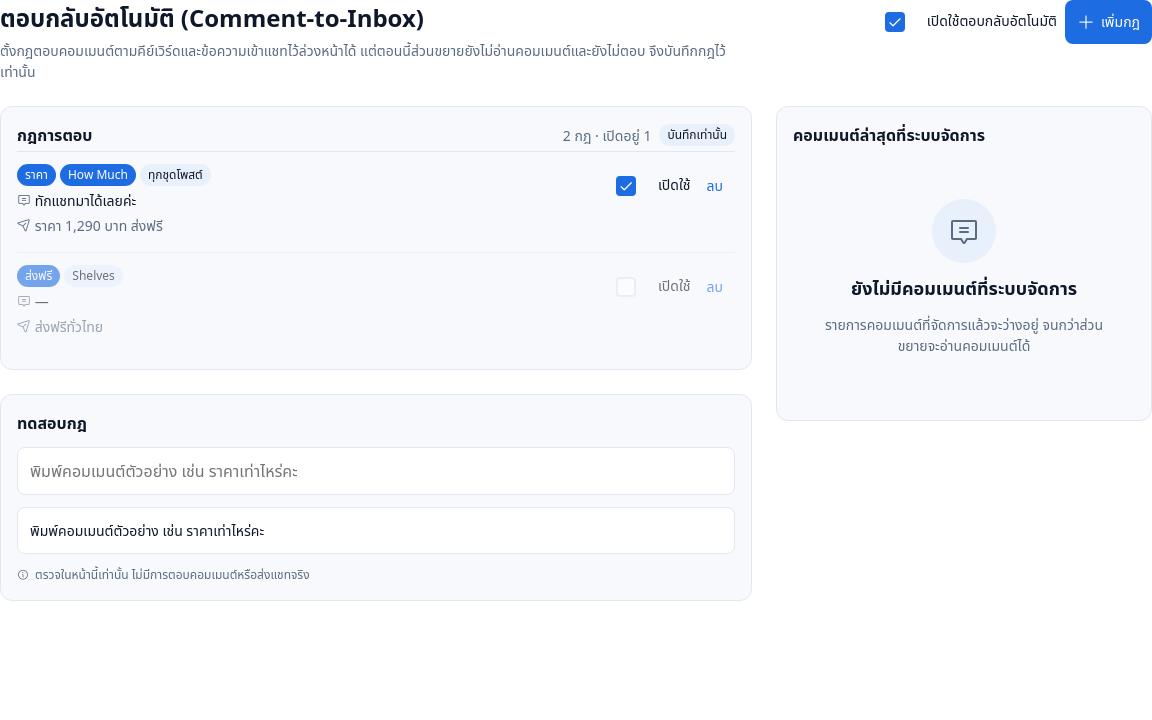
EngagePageComponent › the new rule dialog › adds the rule, sends the whole list and closes with a toast
Click the button "เพิ่มกฎ" at [1108, 22], box [1065,0,1151,44]
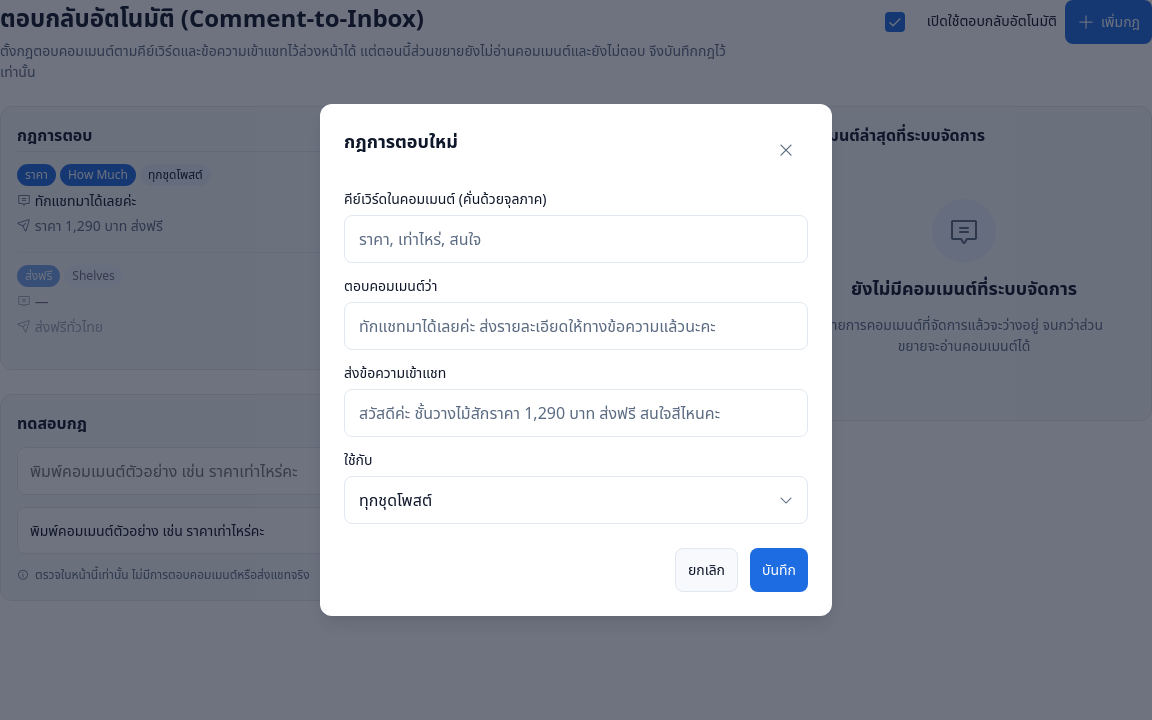
Type " สนใจ, ราคา " into the 1st field with class "su-input" at [576, 239], box [344,215,808,263]
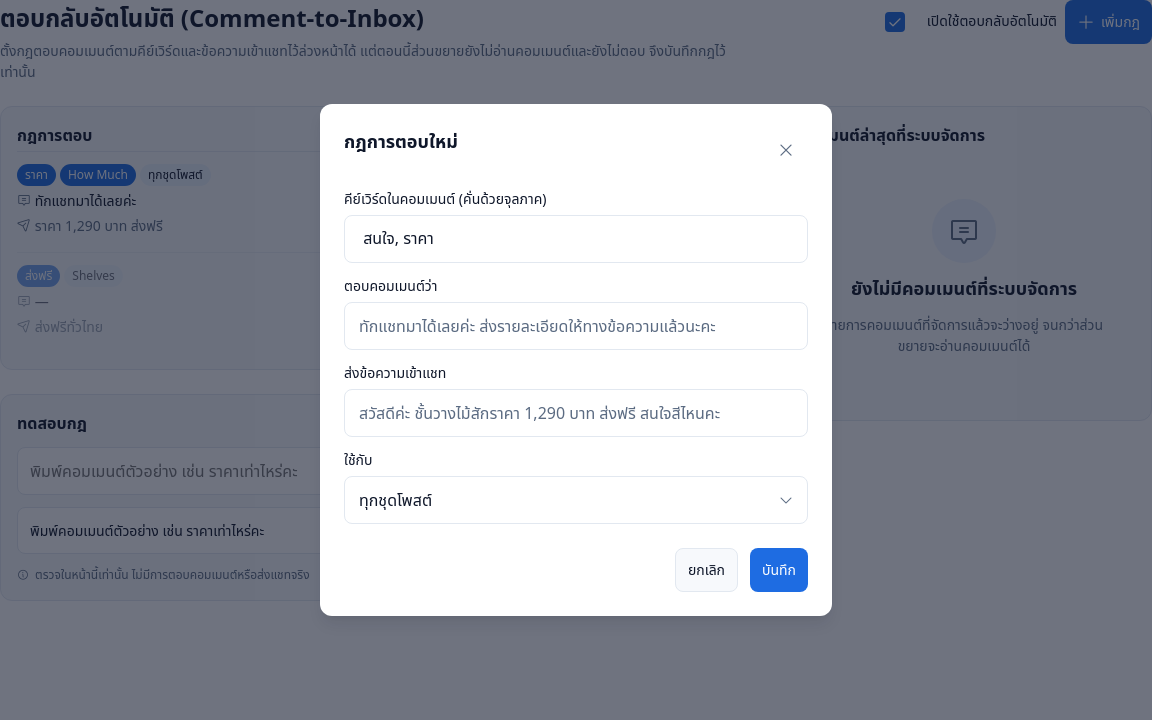
Type "ส่งรายละเอียดทางแชท" into the field with class "su-input" showing "ส่งข้อความเข้าแชท" at [576, 413], box [344,389,808,437]
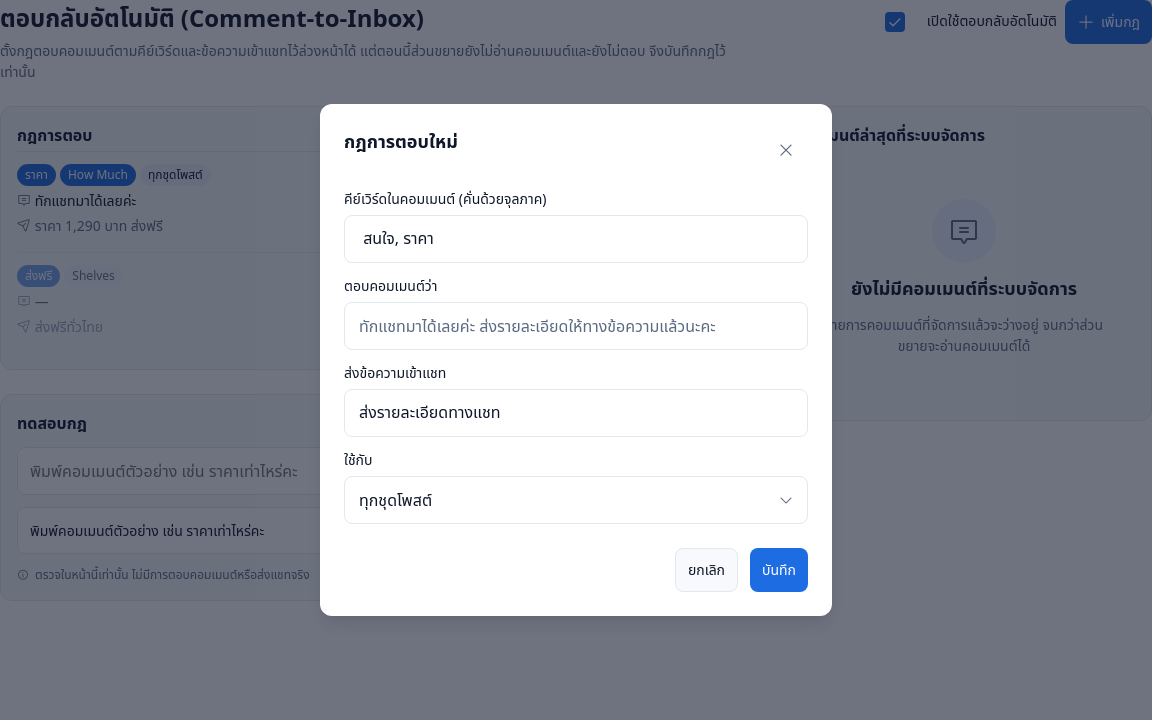
Select "Chairs" in the dropdown labelled "ใช้กับ" at [576, 500], box [344,476,808,524]
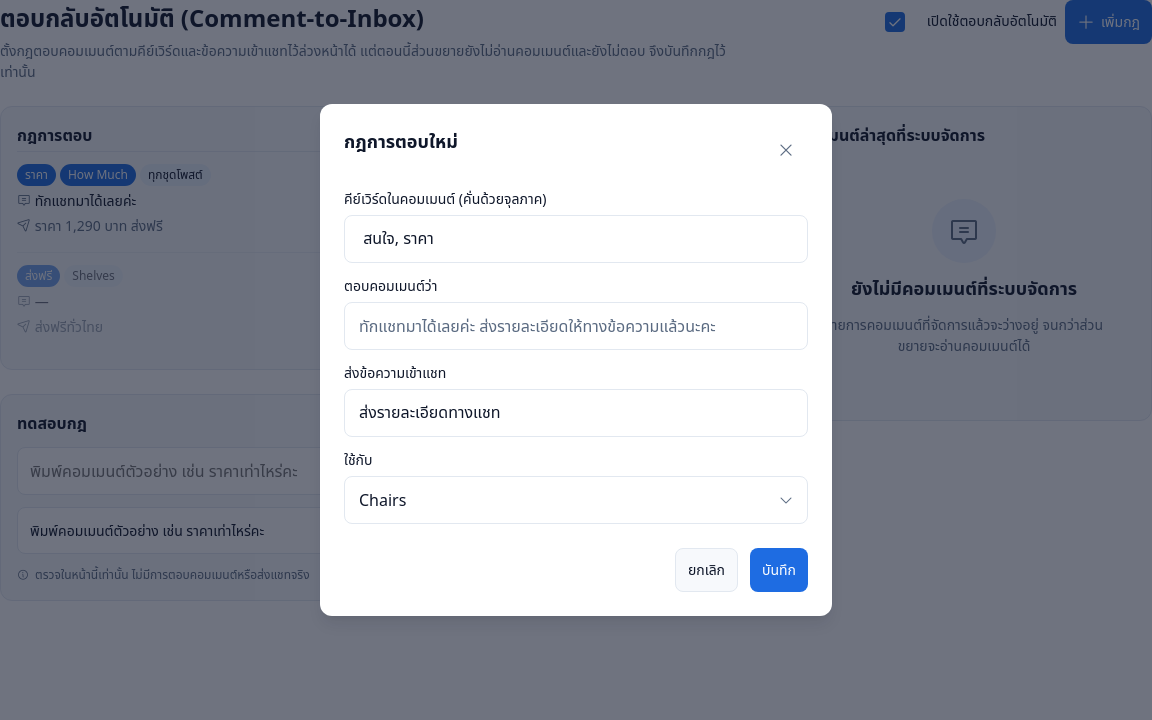
Click the button "บันทึก" at [779, 570], box [750,548,808,592]
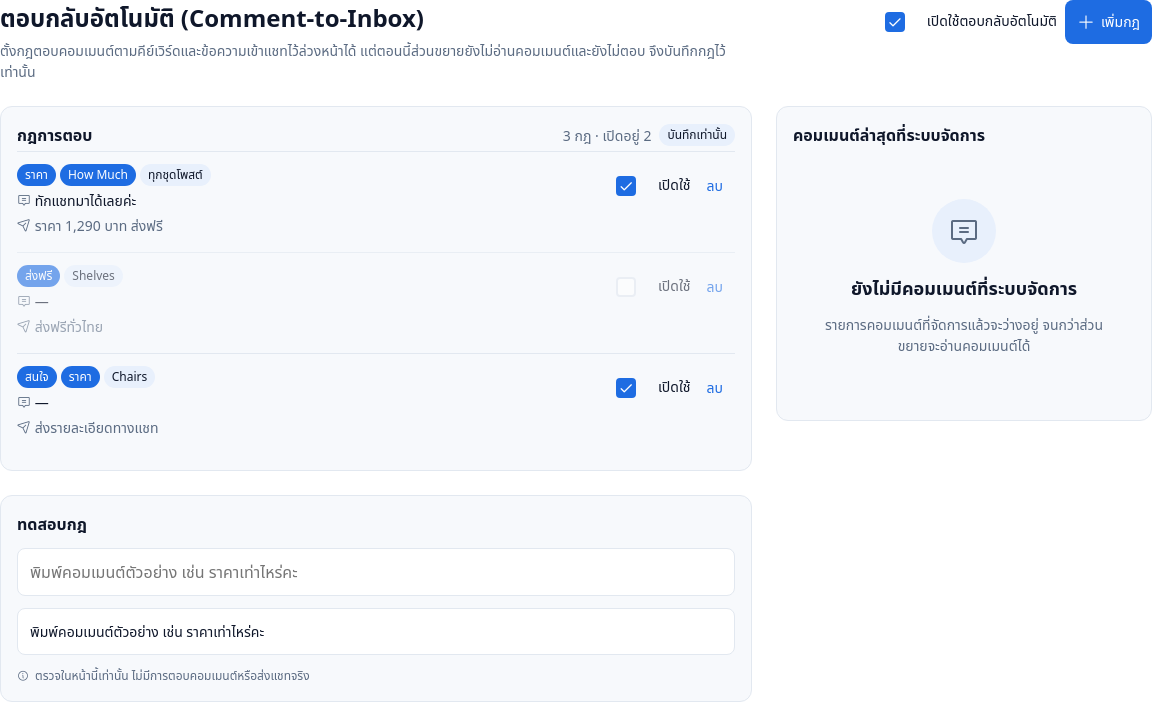
Result: the dialog with class "su-modal-panel" is gone
